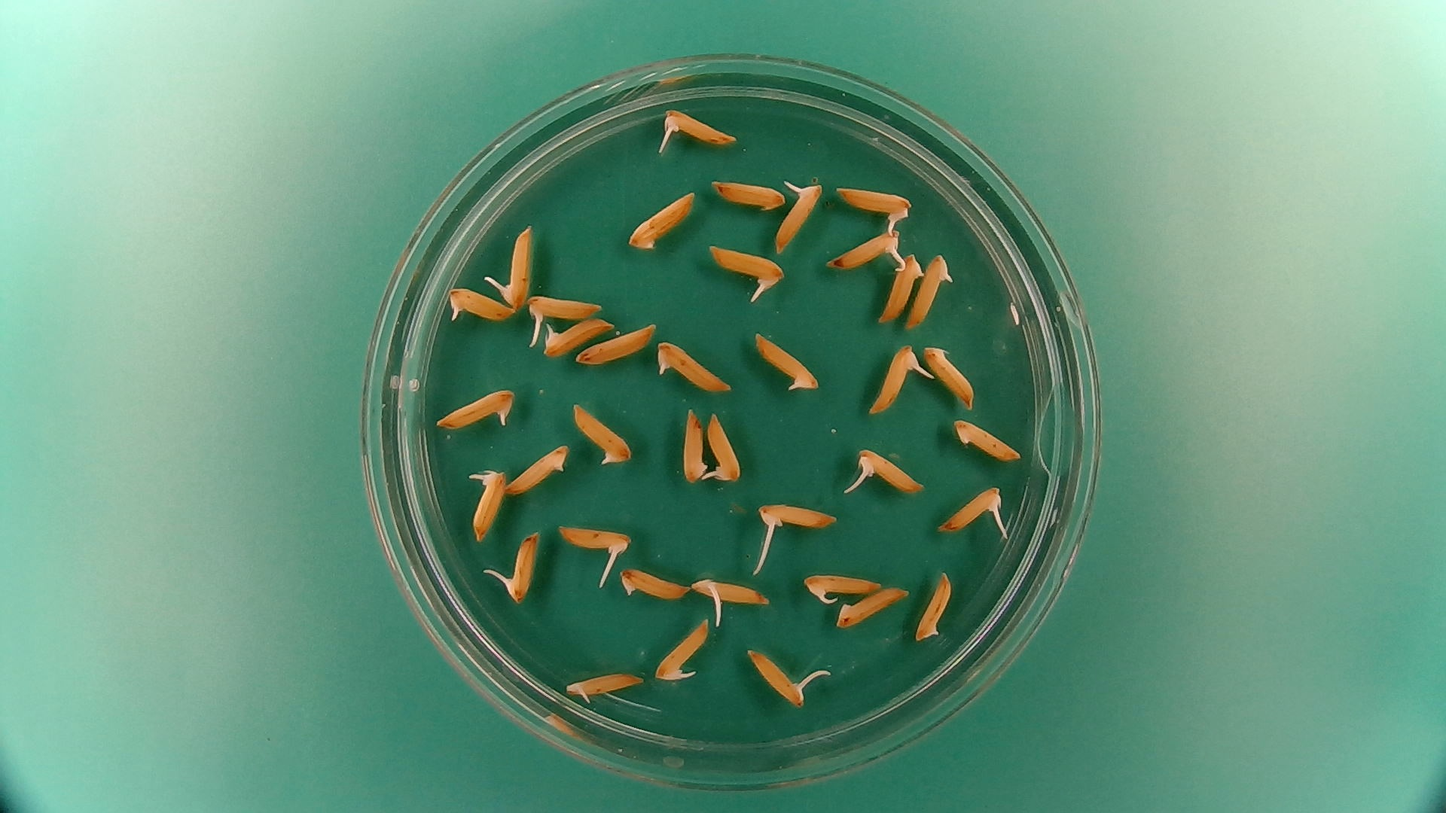no: (625, 187, 700, 251), (573, 319, 659, 366), (503, 440, 572, 498), (834, 581, 911, 631), (923, 340, 978, 410), (877, 250, 924, 324), (911, 567, 955, 645), (951, 416, 1024, 463), (616, 564, 691, 603), (708, 178, 786, 215), (676, 403, 709, 486)
yes: (704, 240, 789, 300), (653, 336, 735, 396), (750, 329, 822, 392), (569, 399, 636, 466), (869, 342, 926, 416), (651, 614, 712, 683), (774, 172, 825, 254), (905, 249, 956, 330), (432, 385, 517, 433), (935, 483, 1009, 537), (832, 181, 914, 228), (552, 519, 633, 566), (495, 221, 537, 311), (657, 103, 738, 149), (825, 226, 906, 271), (859, 444, 930, 494), (563, 665, 648, 706), (741, 650, 802, 707), (538, 315, 618, 358), (687, 573, 770, 614), (499, 526, 542, 604), (467, 462, 507, 544), (798, 567, 886, 604), (526, 288, 609, 326), (707, 407, 746, 486), (444, 285, 517, 325), (759, 498, 840, 531)
